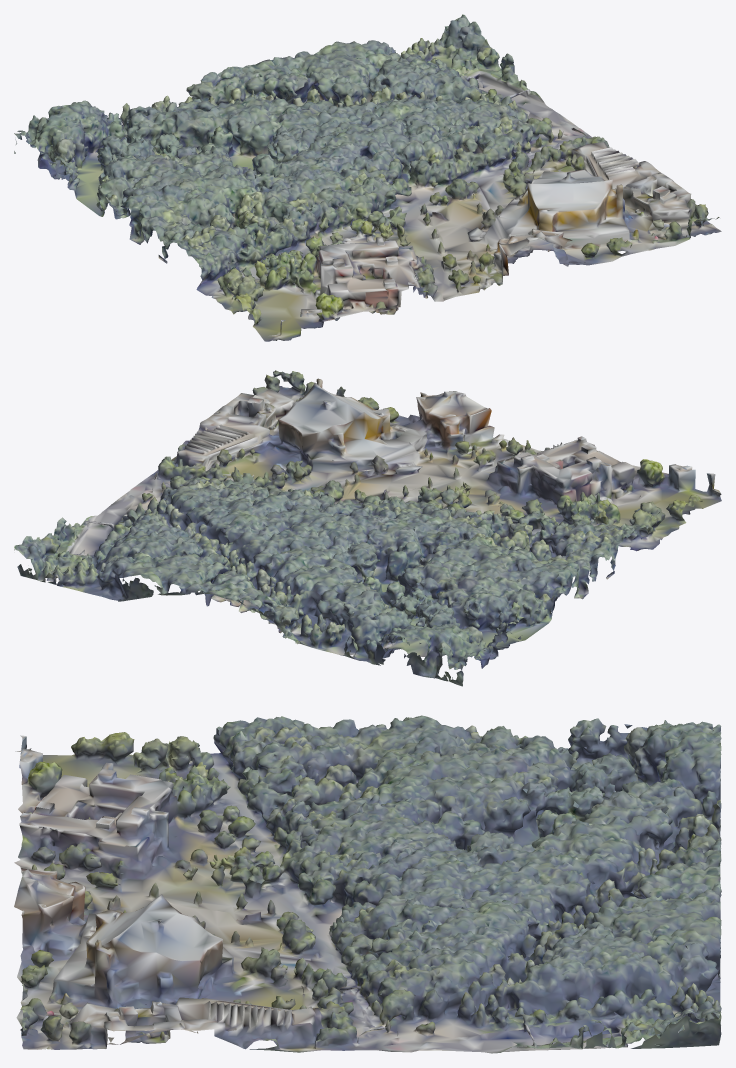
The model's file is tile-3890_58189.glb.
3 views of the same model, one above another, from view 1: azimuth 30°, elevation 25°; view 2: azimuth 150°, elevation 25°; view 3: azimuth 270°, elevation 25° (orthographic). The views are drawn at different scales.
Parts seen in each view (by area): view 1: world; view 2: world; view 3: world.
Boxes of the visible parts, box(x1,y1,x2,y2) form: world: box(14, 14, 721, 341); world: box(14, 370, 721, 686); world: box(14, 715, 721, 1053).
Size of the model in its own units: 365 by 42.38 by 366.
